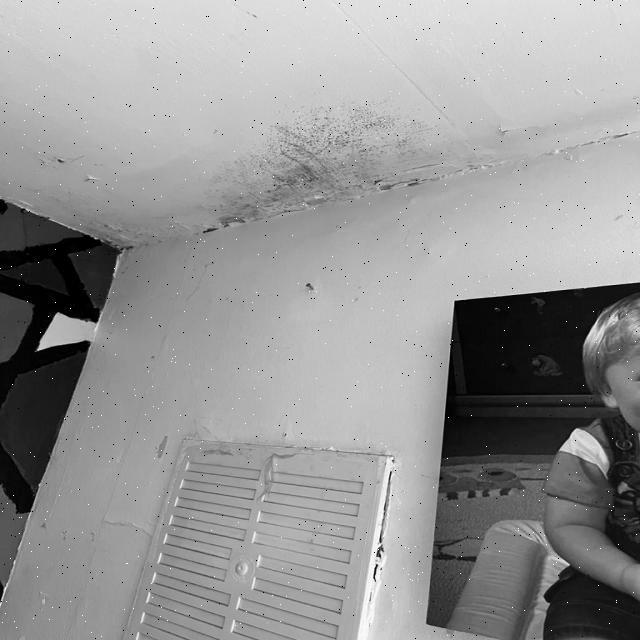stain marks: (251, 98, 484, 234), (33, 152, 194, 252), (491, 92, 640, 160), (193, 153, 249, 249)
